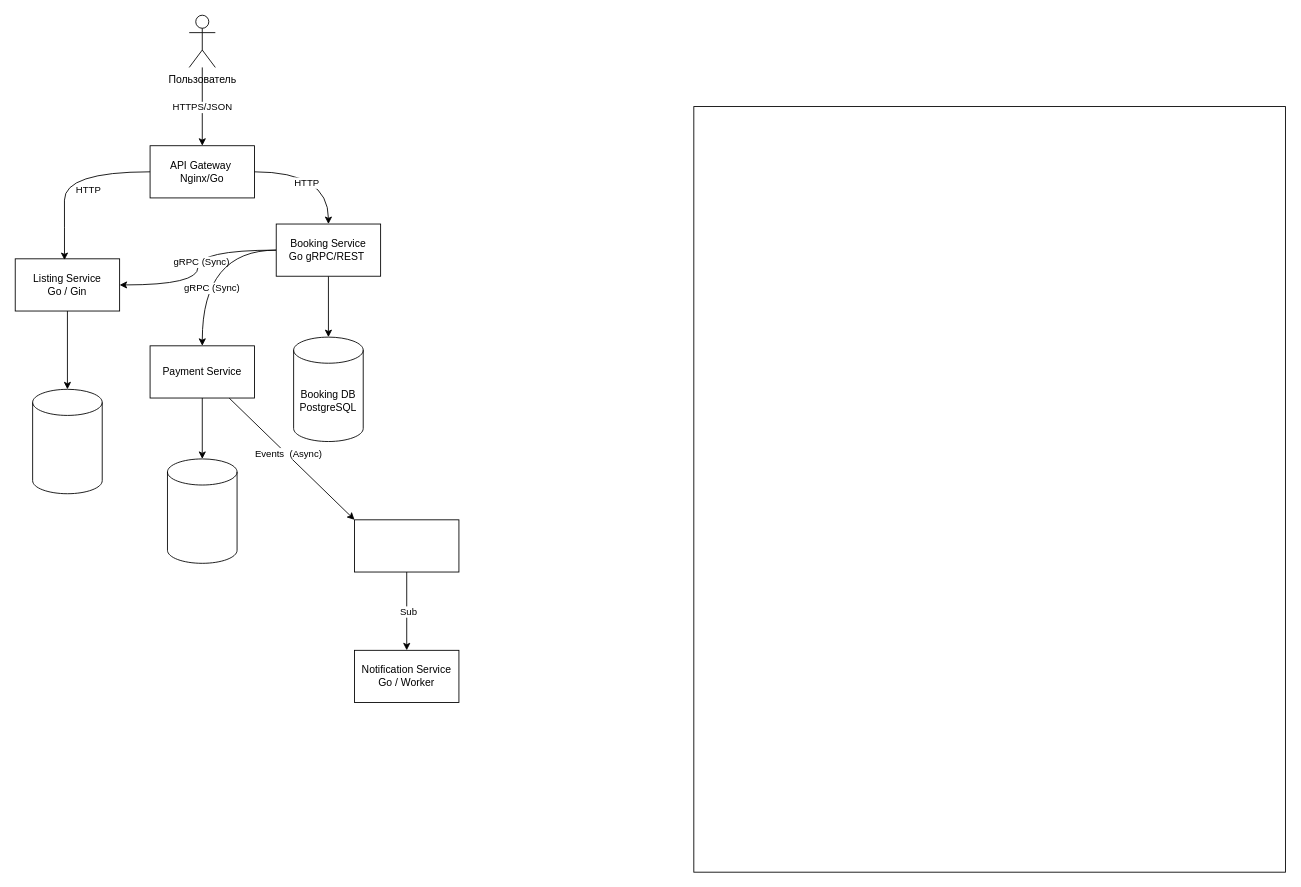
The diagram is 1301 pixels wide and 887 high, and some of its shapes have lost their labels. Here are the shapes that lost their labels. From the top down, the centre of each, then its label:
[67,441]: Listing DB PostgreSQL
[202,510]: Payment DB PostgreSQL
[406,545]: Message Broker RabbitMQ/Apache Kafka
